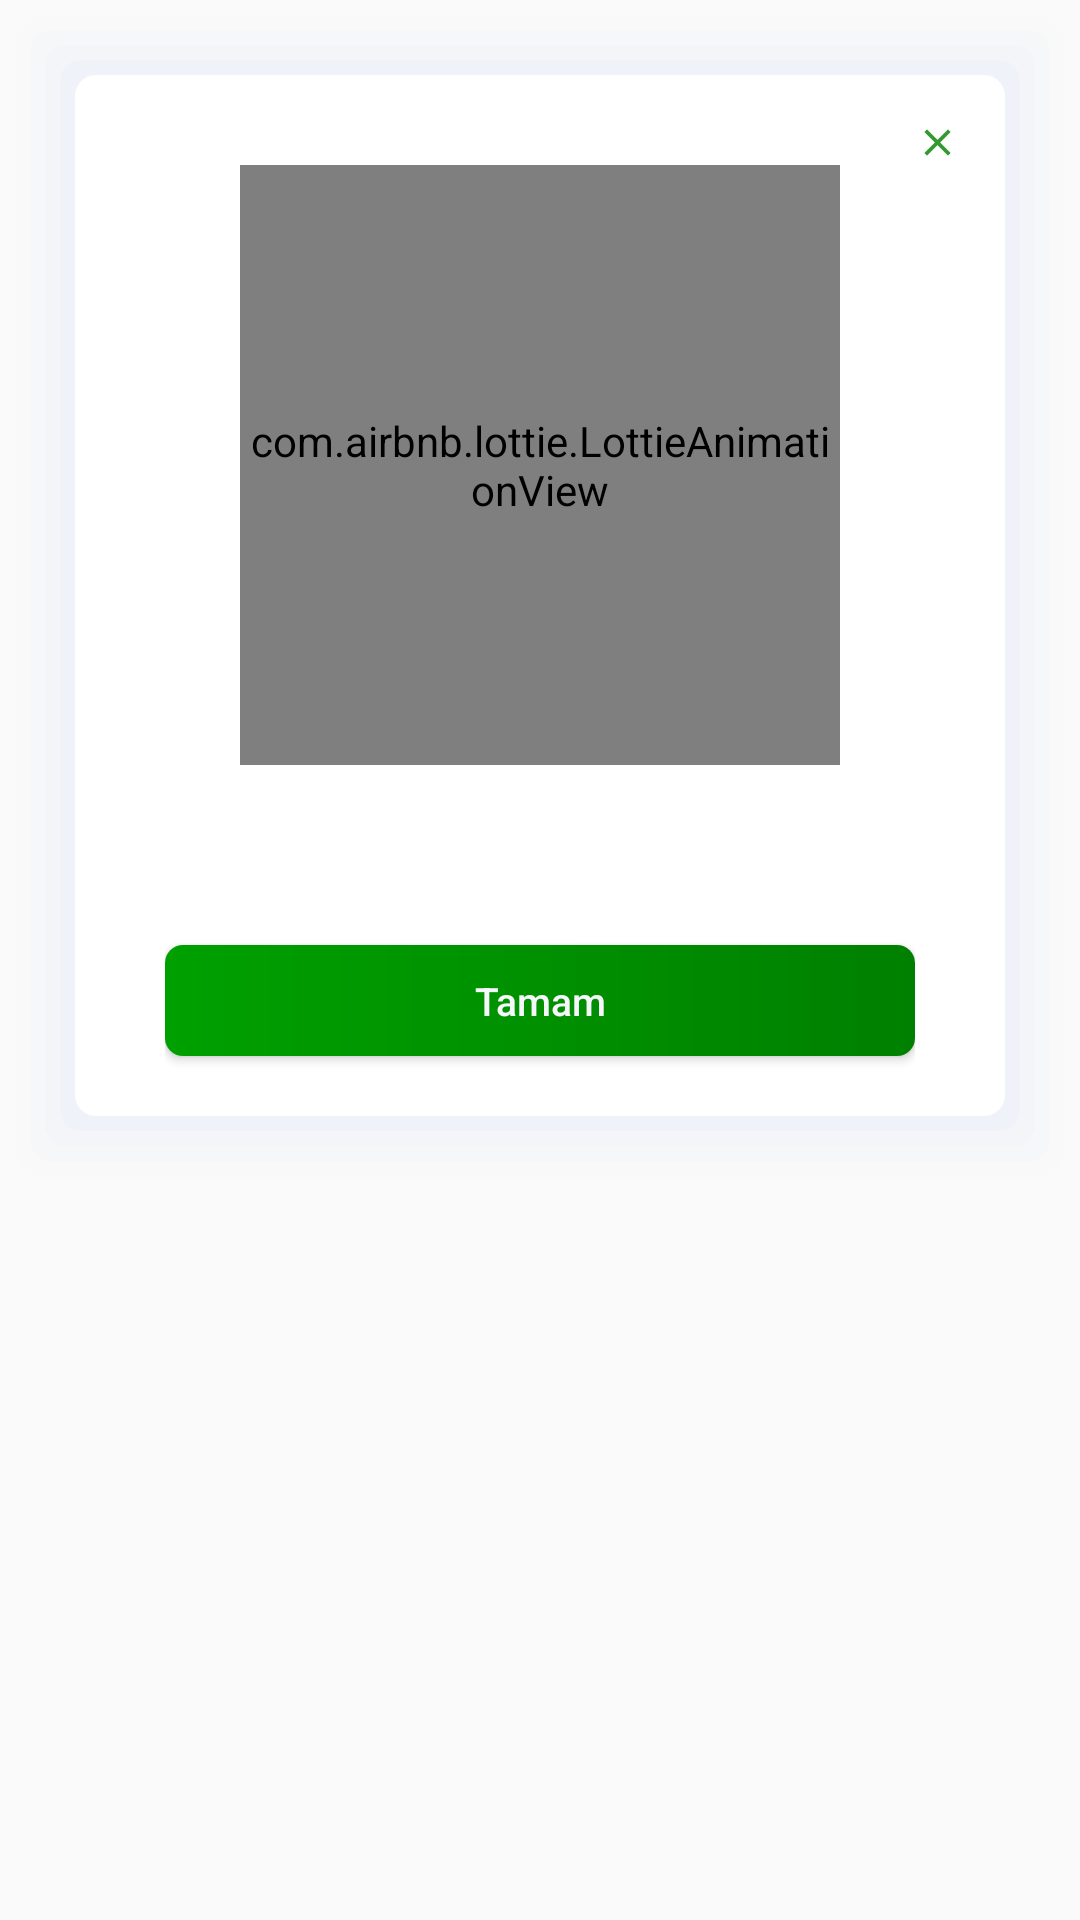

Icon click points for this 1080x1920 phone screenshot, format (x=x, y=y):
cancel: (x=937, y=142)
